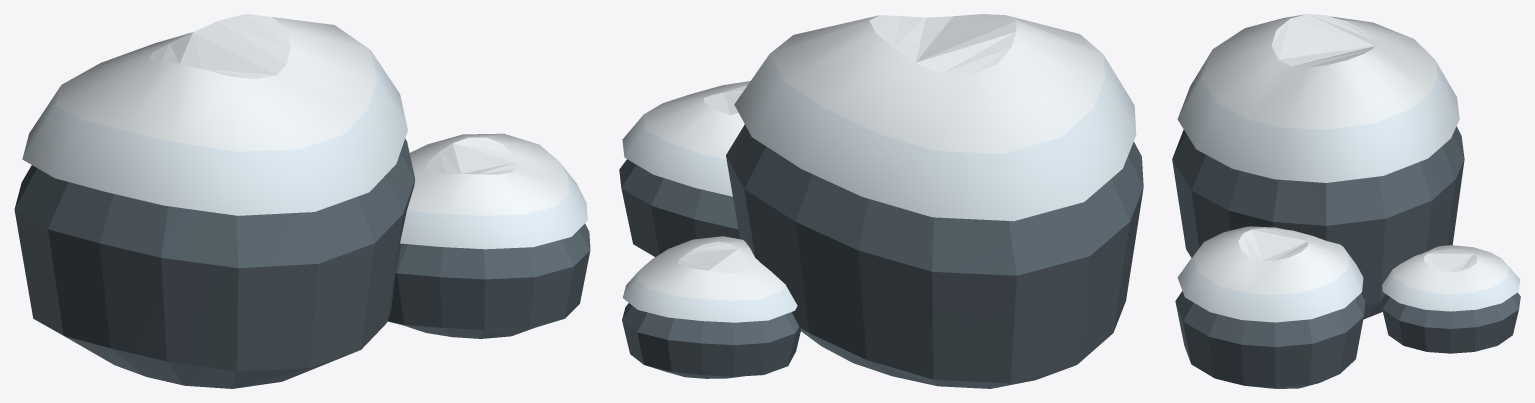
The model's file is Prop_Snow_BoulderCluster_001.glb.
3 views of the same model, side by side, from view 1: azimuth 30°, elevation 25°; view 2: azimuth 150°, elevation 25°; view 3: azimuth 270°, elevation 25° (orthographic). The views are drawn at different scales.
Visible parts, largest first — view 1: SN_SnowBoulders_Body; view 2: SN_SnowBoulders_Body; view 3: SN_SnowBoulders_Body.
Boxes of the visible parts, x1=… form: SN_SnowBoulders_Body: x1=14, y1=14, x2=590, y2=388; SN_SnowBoulders_Body: x1=619, y1=14, x2=1143, y2=388; SN_SnowBoulders_Body: x1=1172, y1=14, x2=1520, y2=388.
Size of the model in its own units: 3.2 by 1.82 by 2.38.
